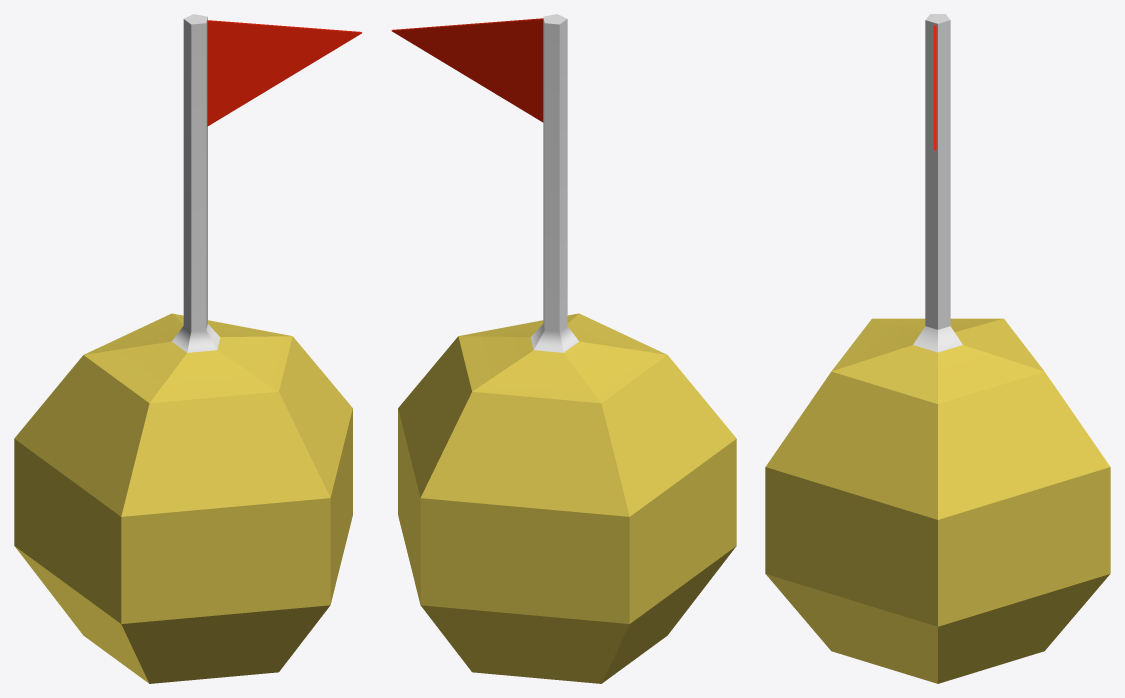
Rendered from bui.fbx.
3 views of the same model, side by side, from view 1: azimuth 30°, elevation 25°; view 2: azimuth 150°, elevation 25°; view 3: azimuth 270°, elevation 25° (orthographic).
Parts seen in each view (by area): view 1: pSphere1, pCylinder1; view 2: pSphere1, pCylinder1; view 3: pSphere1.
Part boxes in pixels (box(x1,y1,x2,y2)): pSphere1: box(14, 14, 352, 683); pCylinder1: box(207, 20, 361, 126); pSphere1: box(398, 14, 736, 683); pCylinder1: box(391, 18, 543, 122); pSphere1: box(765, 14, 1110, 683).
Bounding box in the file's own units: 1.77 × 3.77 × 1.81.
